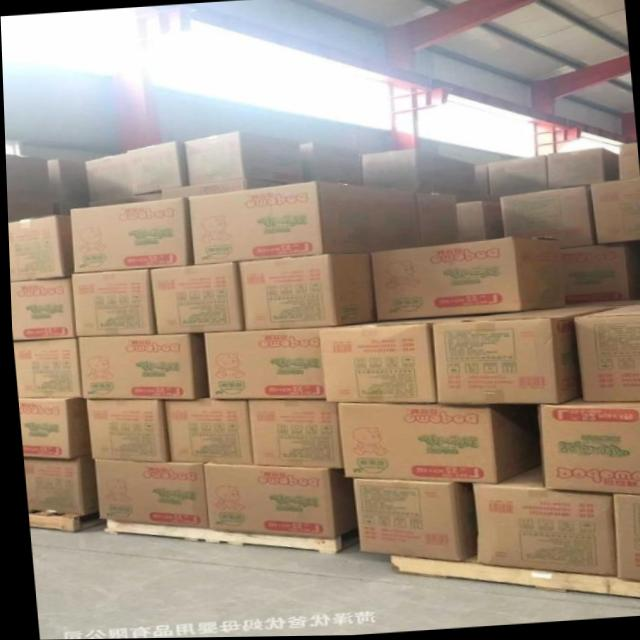box: (185, 183, 417, 265), (429, 305, 610, 406), (334, 405, 536, 486), (369, 239, 565, 320), (469, 466, 611, 577), (319, 316, 487, 406), (202, 465, 351, 541), (234, 253, 375, 331), (343, 480, 470, 564), (531, 400, 640, 497), (63, 201, 189, 273), (72, 334, 206, 401), (200, 330, 321, 402), (90, 462, 202, 528), (147, 263, 243, 336), (245, 400, 342, 470), (570, 307, 640, 403), (359, 149, 475, 204), (498, 185, 593, 251), (183, 132, 301, 185), (158, 401, 249, 465), (68, 271, 153, 336), (80, 400, 164, 464), (559, 247, 640, 307), (15, 397, 86, 460), (20, 460, 95, 518), (11, 338, 78, 401), (8, 278, 74, 341), (6, 216, 69, 281), (589, 180, 640, 251), (295, 144, 371, 190), (124, 141, 187, 196), (5, 155, 56, 220), (545, 150, 618, 191), (607, 495, 640, 583), (408, 193, 454, 250), (485, 159, 546, 201), (155, 181, 289, 200), (81, 152, 130, 200), (451, 201, 503, 244), (46, 161, 88, 202), (80, 193, 174, 208), (617, 142, 639, 181), (472, 166, 492, 202), (565, 299, 640, 308)
